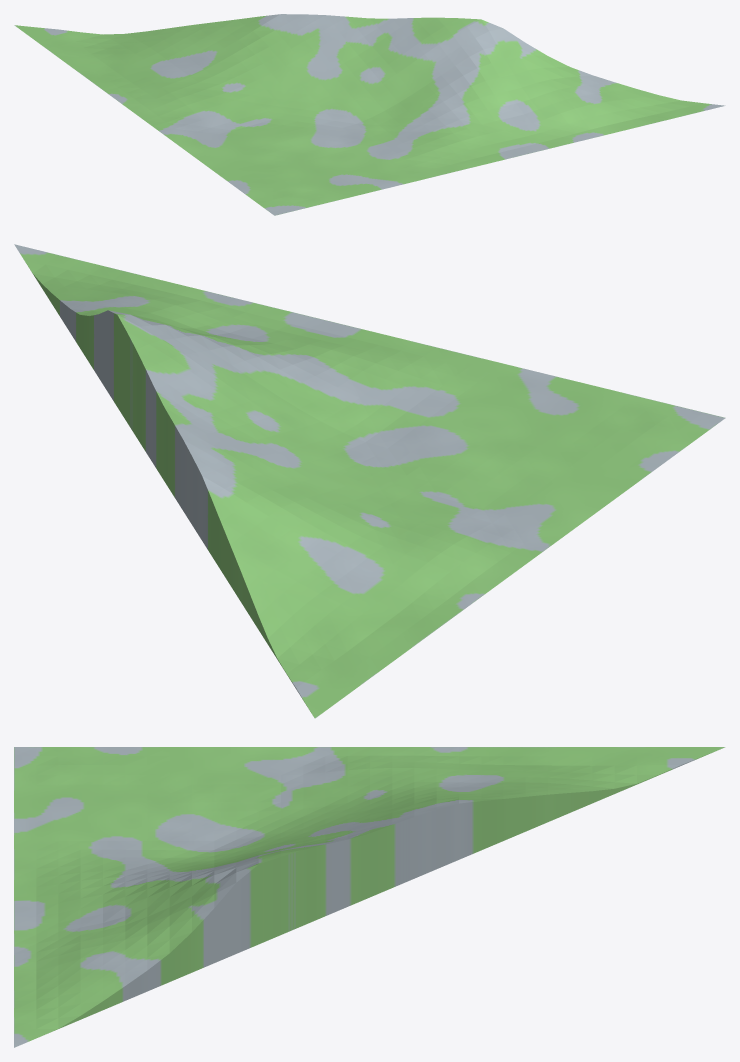
File: Grass_RockyGround_12_NW.obj
The picture shows the model from 3 angles, top to bottom: view 1: azimuth 30°, elevation 25°; view 2: azimuth 150°, elevation 25°; view 3: azimuth 270°, elevation 25°; orthographic projection. The views are drawn at different scales.
Size of the model in its own units: 10 by 1.24 by 10.
1 material, 1 textured.
